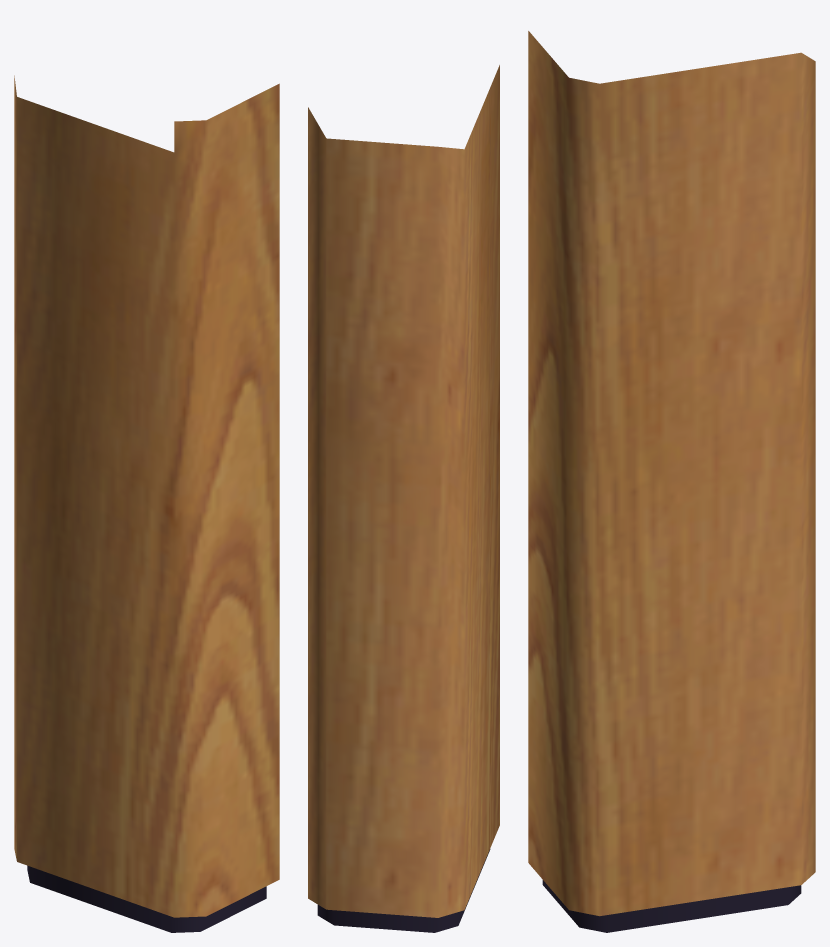
3 renders of one model, left to right at view 1: azimuth 30°, elevation 25°; view 2: azimuth 150°, elevation 25°; view 3: azimuth 270°, elevation 25°, orthographic. The views are drawn at different scales.
Visible parts, largest first — view 1: Joint_0_Object_0, Joint_0_Object_1; view 2: Joint_0_Object_0, Joint_0_Object_1; view 3: Joint_0_Object_0, Joint_0_Object_1.
Part boxes in pixels (left/top/right/bottom): Joint_0_Object_0: left=14, top=75, right=279, bottom=917; Joint_0_Object_1: left=27, top=865, right=266, bottom=932; Joint_0_Object_0: left=308, top=65, right=499, bottom=917; Joint_0_Object_1: left=317, top=849, right=490, bottom=932; Joint_0_Object_0: left=528, top=31, right=815, bottom=916; Joint_0_Object_1: left=542, top=880, right=801, bottom=932.
Size of the model in its own units: 96.56 by 395 by 120.
2 materials, 2 textured.
